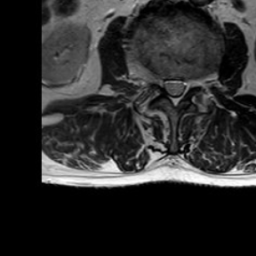CCS_normal: (171, 66, 179, 116)
LFS_normal: (189, 67, 200, 96)
LLS_normal: (179, 68, 189, 105)
RFS_normal: (151, 62, 161, 96)
RLS_normal: (161, 69, 171, 102)
